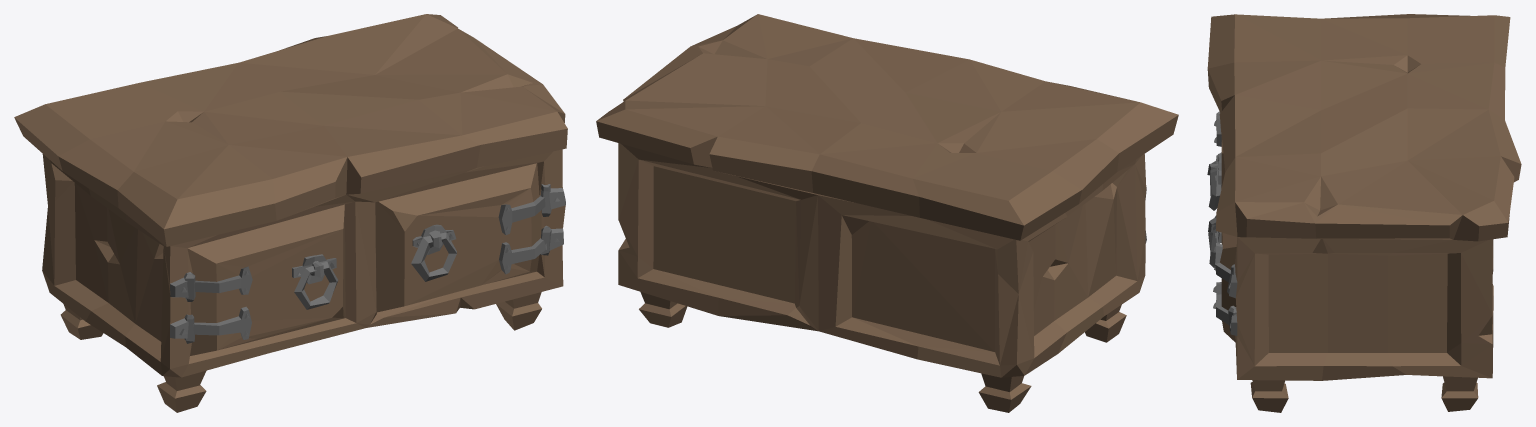
File: Dresser.fbx
3 renders of one model, left to right at view 1: azimuth 30°, elevation 25°; view 2: azimuth 150°, elevation 25°; view 3: azimuth 270°, elevation 25°, orthographic. The views are drawn at different scales.
Parts seen in each view (by area): view 1: Dresser; view 2: Dresser; view 3: Dresser.
Boxes of the visible parts, left/top/right/bottom form: Dresser: left=14, top=14, right=567, bottom=412; Dresser: left=596, top=14, right=1178, bottom=412; Dresser: left=1207, top=14, right=1521, bottom=412.
Bounding box in the file's own units: 3.91 × 1.93 × 2.47.
